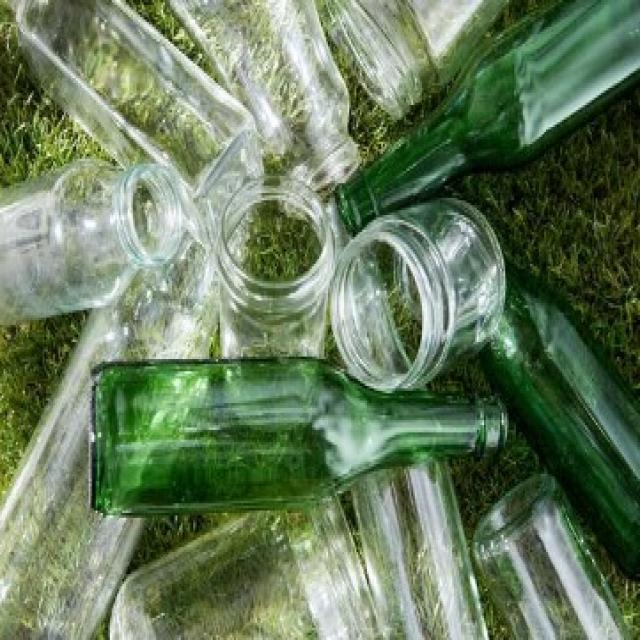electronic: (87, 349, 513, 520)
